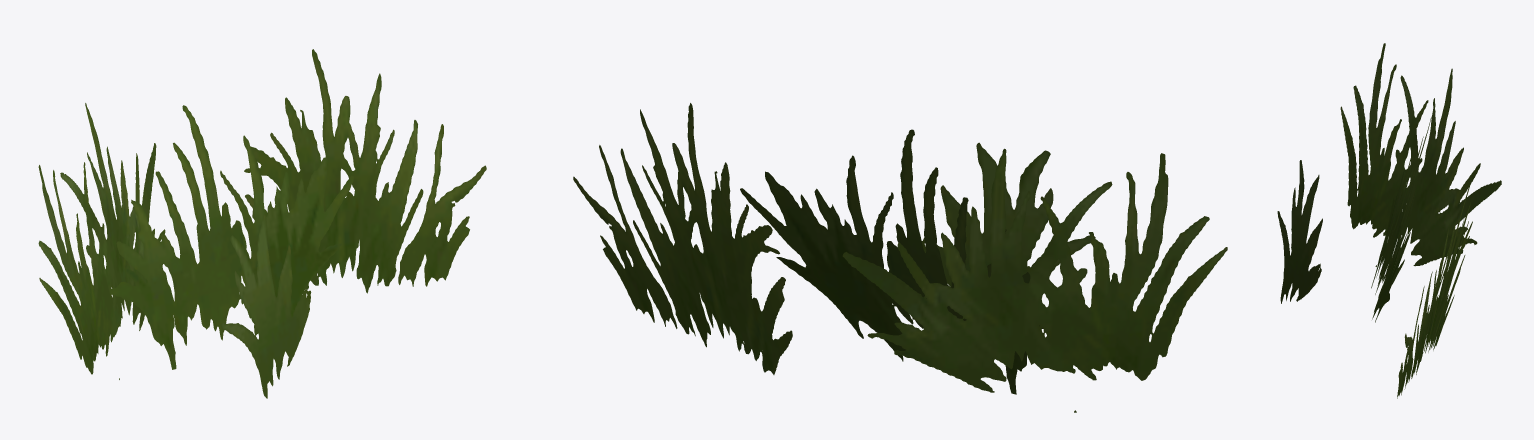
The model's file is plant_yewai_caocong04.FBX.
3 renders of one model, left to right at view 1: azimuth 30°, elevation 25°; view 2: azimuth 150°, elevation 25°; view 3: azimuth 270°, elevation 25°, orthographic. The views are drawn at different scales.
Parts seen in each view (by area): view 1: plant_yewai_caocong04; view 2: plant_yewai_caocong04; view 3: plant_yewai_caocong04.
Part boxes in pixels (x1=…): plant_yewai_caocong04: x1=38, y1=49, x2=486, y2=398; plant_yewai_caocong04: x1=573, y1=103, x2=1227, y2=412; plant_yewai_caocong04: x1=1277, y1=43, x2=1501, y2=398.
Size of the model in its own units: 2.65 by 1.36 by 1.2.
